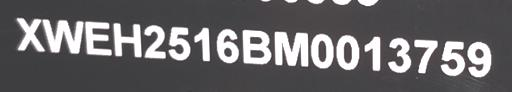letter: (42, 16, 84, 55), (270, 29, 308, 67), (240, 26, 272, 66), (14, 14, 44, 55), (112, 20, 144, 58), (358, 32, 386, 75), (466, 37, 494, 79), (84, 17, 114, 55), (141, 21, 169, 60), (384, 34, 412, 73), (412, 37, 440, 76), (308, 31, 336, 69), (190, 26, 216, 64), (334, 32, 360, 70), (440, 38, 466, 76), (213, 28, 239, 64), (168, 25, 192, 61)
